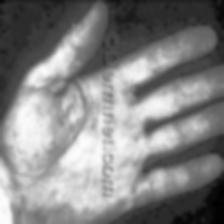Non-Cancerous Skin Condition: (111, 30, 224, 215), (2, 24, 103, 224)
